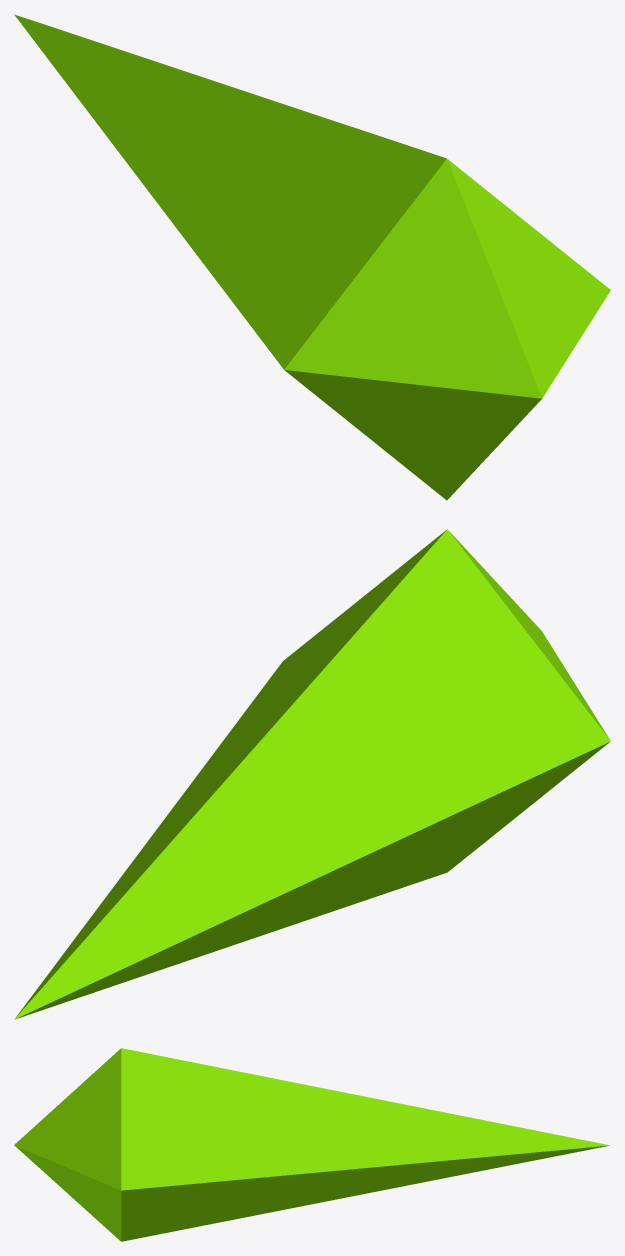
File: SM_Turret_Bullet2.fbx
3 views of the same model, one above another, from view 1: azimuth 30°, elevation 25°; view 2: azimuth 150°, elevation 25°; view 3: azimuth 270°, elevation 25° (orthographic). The views are drawn at different scales.
Parts seen in each view (by area): view 1: pPyramid1; view 2: pPyramid1; view 3: pPyramid1.
Part boxes in pixels (bbox=[...]): pPyramid1: bbox=[14, 14, 610, 500]; pPyramid1: bbox=[14, 529, 610, 1019]; pPyramid1: bbox=[14, 1048, 610, 1241].
Size of the model in its own units: 2.17 by 2.17 by 6.06.
